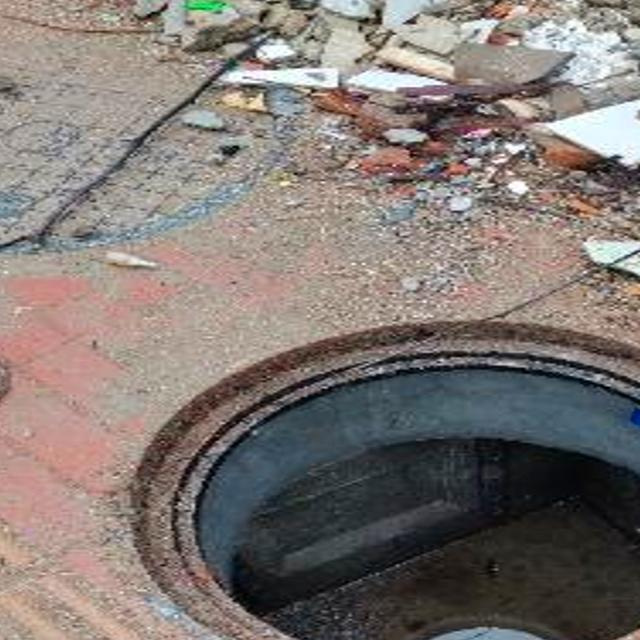lose: (133, 319, 640, 640)
